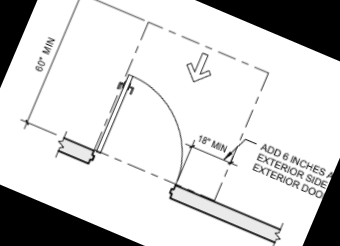door: (93, 72, 211, 190)
